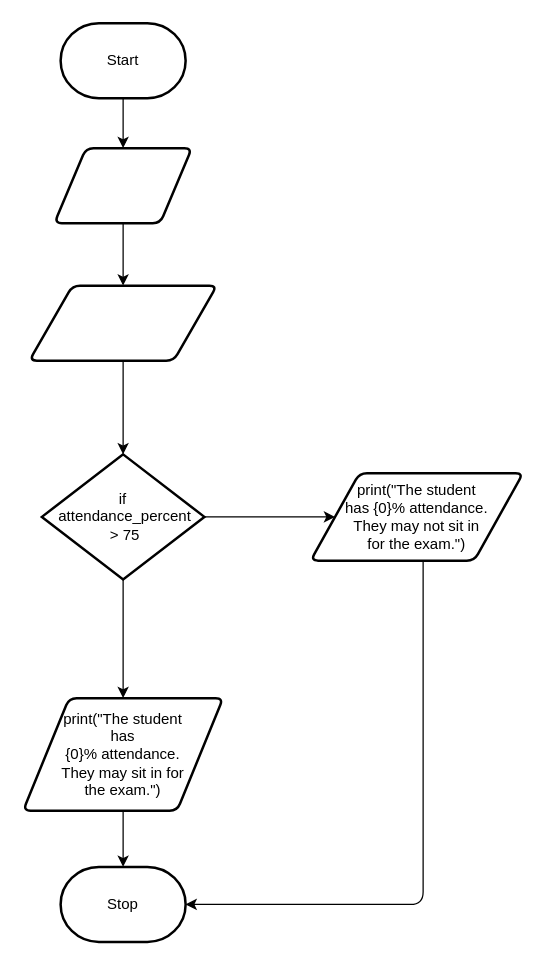
Image size: 545x964. Some labels were removed from this diagram. Each missing label, with the centre of its shape:
"get # of classes_attended" goes at point 123,322.
"get # of classes_held" goes at point 122,185.
